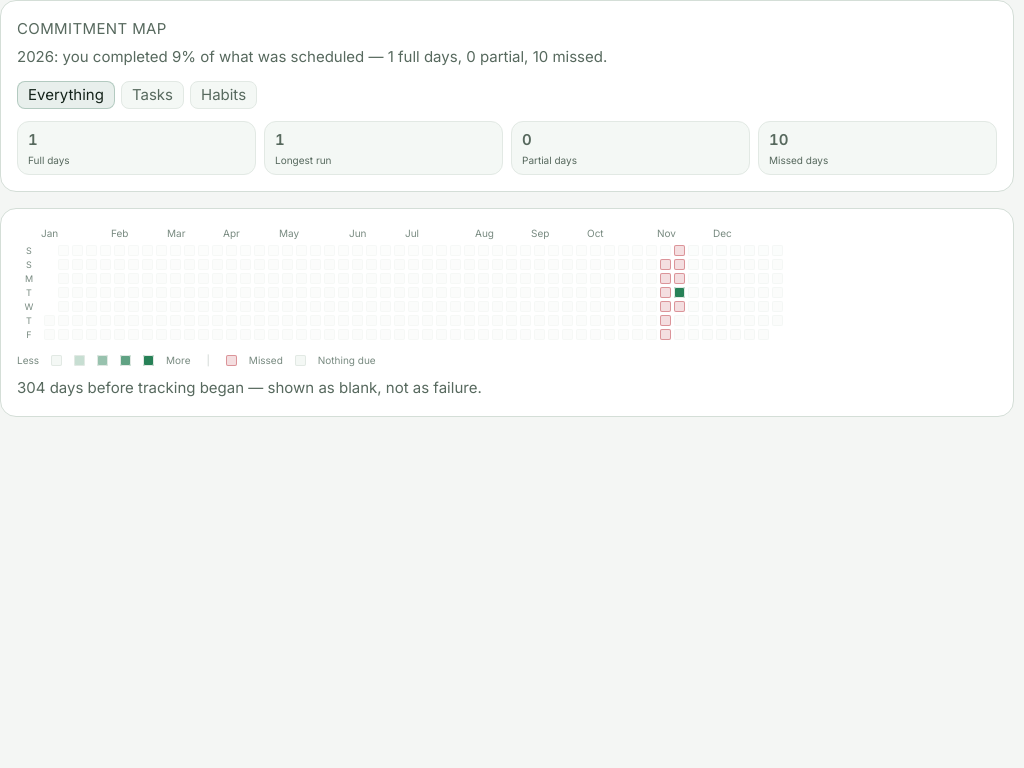
Test: CommitmentMap — day selection › opens the day panel when a cell is clicked
Click the cell named "2026-11-10" at (680, 293), box [674,287,685,298]
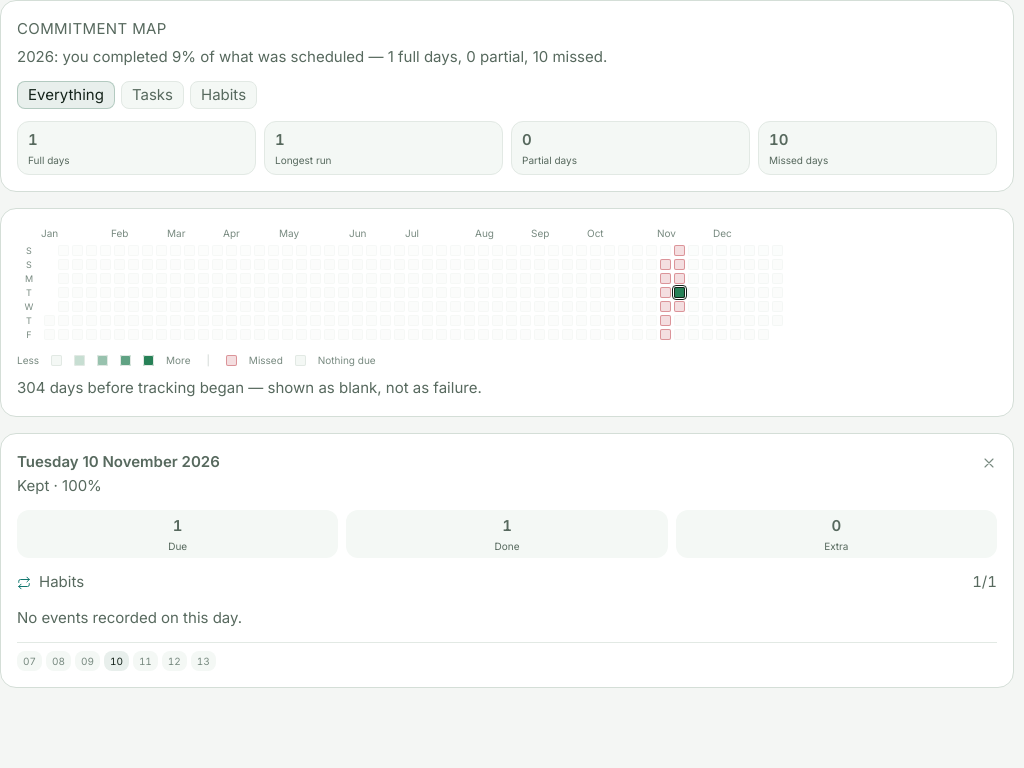
Now the text "Due" is shown, box [168,540,187,552]
Now the text "Done" is shown, box [494,540,520,552]
